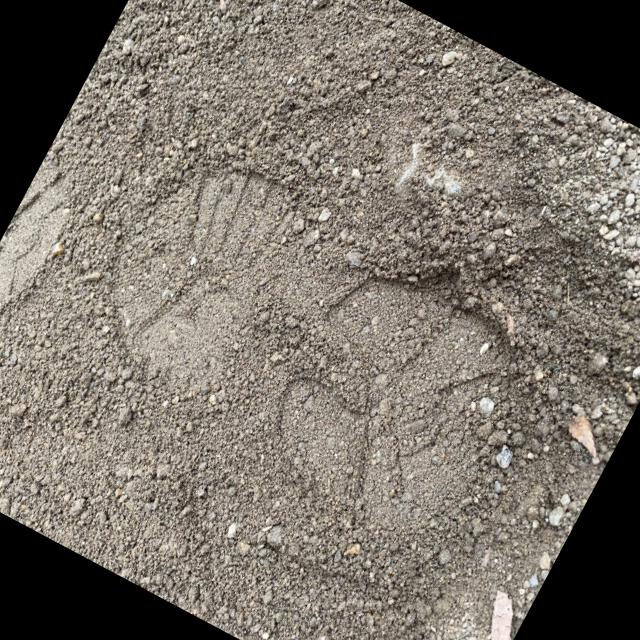human_footprint: (120, 106, 553, 560)
